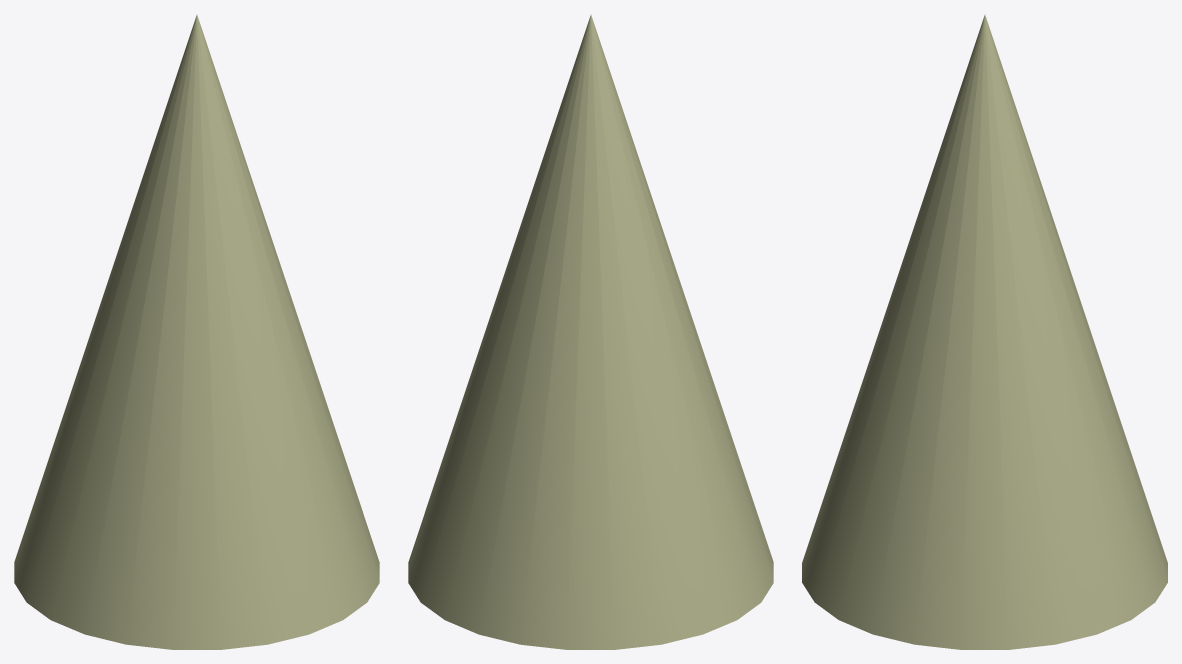
File: PiceaAbies.glb
3 views of the same model, side by side, from view 1: azimuth 30°, elevation 25°; view 2: azimuth 150°, elevation 25°; view 3: azimuth 270°, elevation 25° (orthographic).
Parts seen in each view (by area): view 1: Norway_Spruce__Schematic_LOD3; view 2: Norway_Spruce__Schematic_LOD3; view 3: Norway_Spruce__Schematic_LOD3.
Boxes of the visible parts, x1=… form: Norway_Spruce__Schematic_LOD3: x1=14, y1=15, x2=379, y2=649; Norway_Spruce__Schematic_LOD3: x1=408, y1=15, x2=773, y2=649; Norway_Spruce__Schematic_LOD3: x1=802, y1=15, x2=1167, y2=649.
Size of the model in its own units: 14.38 by 25.94 by 14.38.
